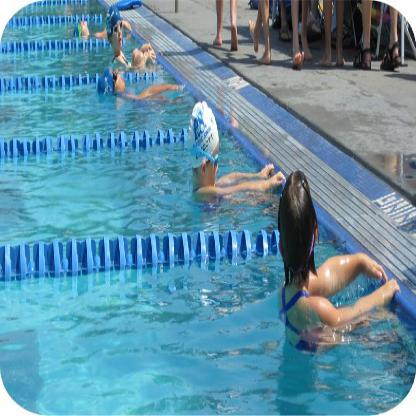face: (206, 139, 219, 190), (109, 67, 125, 93), (113, 20, 124, 50), (78, 21, 88, 32)
